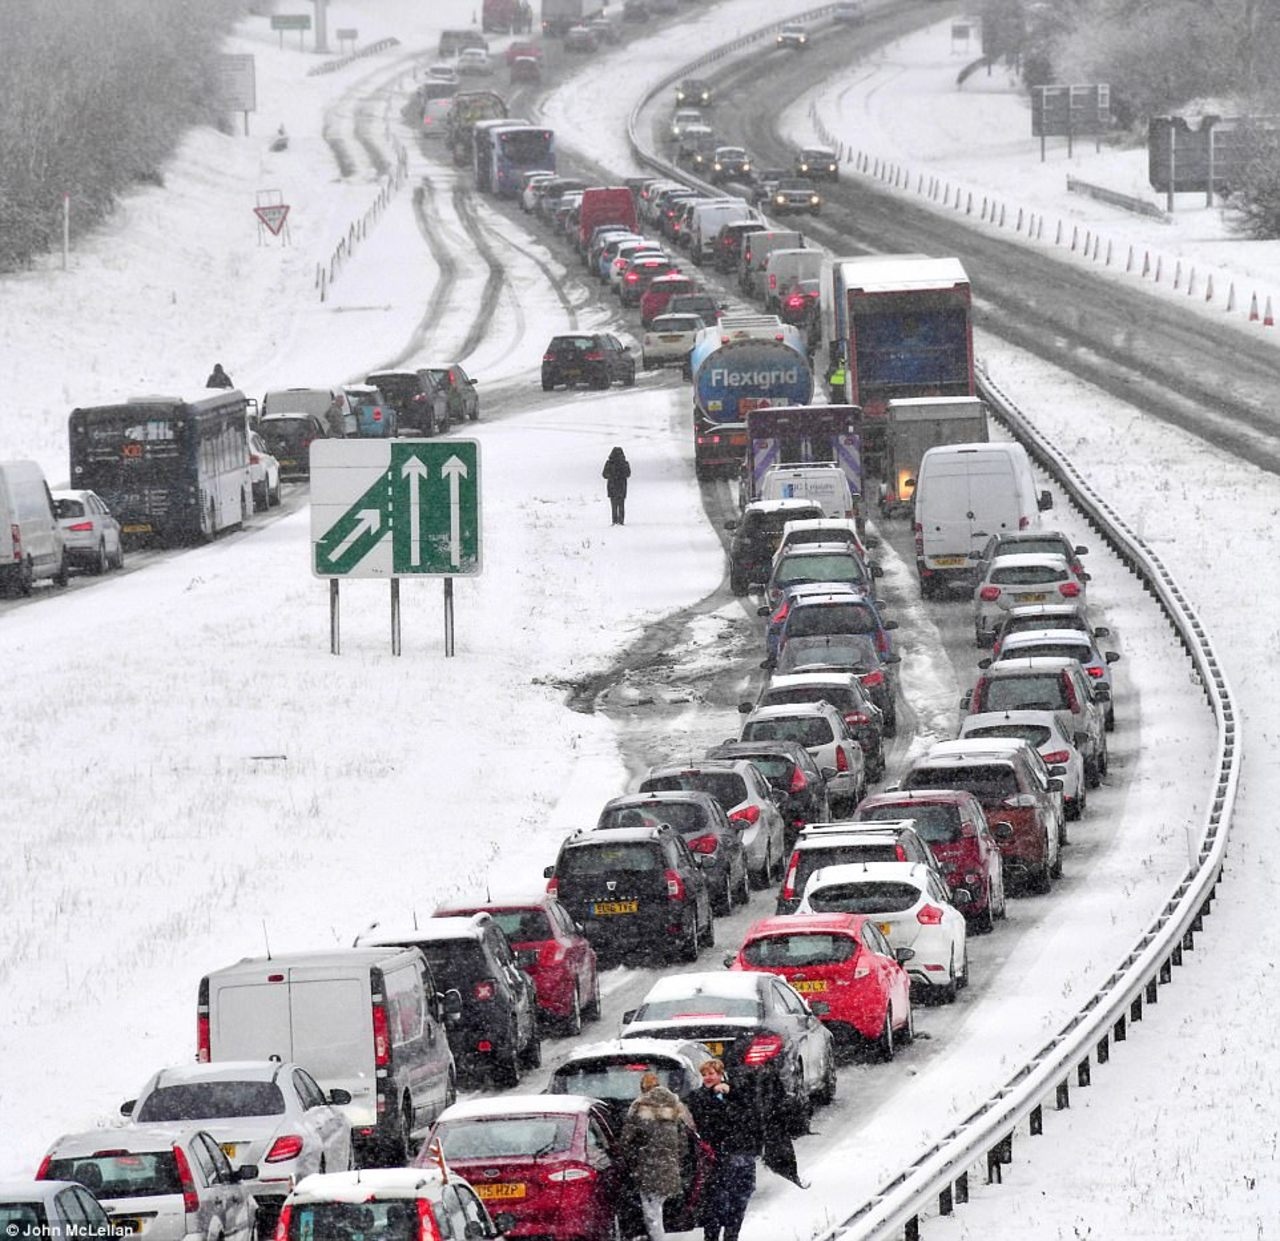bus: (71, 384, 269, 546), (473, 121, 556, 202)
car: (239, 960, 455, 1141), (118, 1058, 350, 1212), (620, 968, 842, 1128), (422, 1094, 625, 1240), (726, 911, 913, 1063), (790, 858, 970, 1005), (38, 1128, 263, 1240), (438, 895, 599, 1038), (909, 744, 1063, 891), (553, 824, 709, 969), (393, 918, 536, 1074), (861, 791, 1005, 933), (265, 1159, 506, 1240), (915, 446, 1038, 572), (976, 678, 1093, 801), (619, 789, 738, 909), (736, 712, 852, 818), (974, 540, 1088, 644), (777, 640, 894, 727), (0, 456, 69, 600), (696, 761, 781, 878), (728, 498, 826, 597), (760, 534, 876, 609), (784, 683, 883, 770), (0, 1177, 142, 1238), (721, 742, 831, 819), (48, 487, 124, 576), (540, 331, 641, 394), (273, 386, 358, 444), (373, 372, 449, 430), (259, 416, 323, 476), (767, 250, 827, 311), (430, 365, 481, 428), (640, 313, 697, 370), (742, 232, 793, 292), (248, 436, 281, 517), (622, 255, 678, 295), (772, 177, 820, 218), (355, 383, 391, 436), (781, 284, 824, 325), (796, 147, 839, 185), (637, 280, 686, 312), (712, 148, 753, 185), (691, 202, 715, 264), (713, 224, 744, 271), (672, 77, 711, 109), (421, 98, 453, 136), (457, 47, 494, 74), (776, 22, 809, 50), (589, 225, 607, 275), (510, 57, 540, 85), (673, 115, 704, 140), (679, 204, 694, 251), (691, 137, 714, 167), (426, 65, 457, 87), (566, 207, 582, 248), (609, 244, 622, 286), (524, 177, 540, 208), (600, 243, 613, 276), (555, 198, 567, 229)
person: (613, 1075, 702, 1240), (687, 1063, 754, 1234), (604, 446, 631, 525)
truck: (829, 257, 983, 492), (688, 316, 814, 460), (730, 403, 863, 530), (452, 98, 505, 171)
